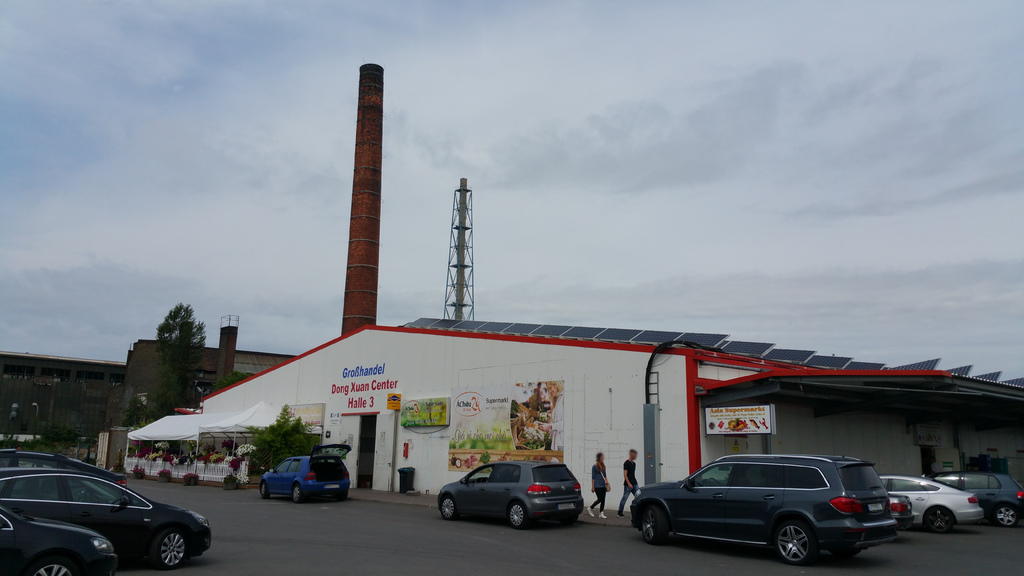Car: (630, 455, 897, 566), (0, 467, 209, 575), (433, 460, 586, 525), (0, 510, 121, 575), (881, 474, 983, 533), (0, 448, 130, 490), (925, 475, 1023, 529), (260, 440, 346, 497)
